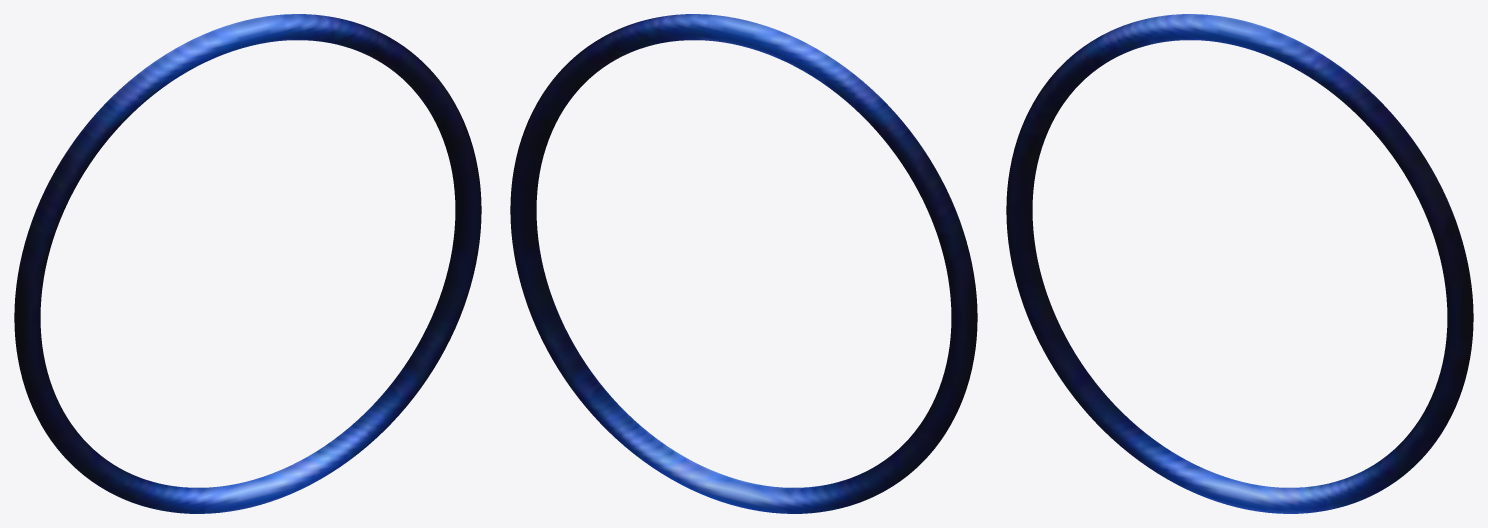
The model's file is middle-ring-v1-optimize.glb.
3 views of the same model, side by side, from view 1: azimuth 30°, elevation 25°; view 2: azimuth 150°, elevation 25°; view 3: azimuth 330°, elevation 25° (orthographic).
Visible parts, largest first — view 1: RING FINAL v1.022; view 2: RING FINAL v1.022; view 3: RING FINAL v1.022.
Boxes of the visible parts, x1,y1,x2,y2 form: RING FINAL v1.022: (14, 14, 481, 513); RING FINAL v1.022: (510, 14, 977, 513); RING FINAL v1.022: (1006, 14, 1473, 513).
Size of the model in its own units: 1.3 by 1.3 by 0.0632.
Materials: 1 (1 with a texture image).
